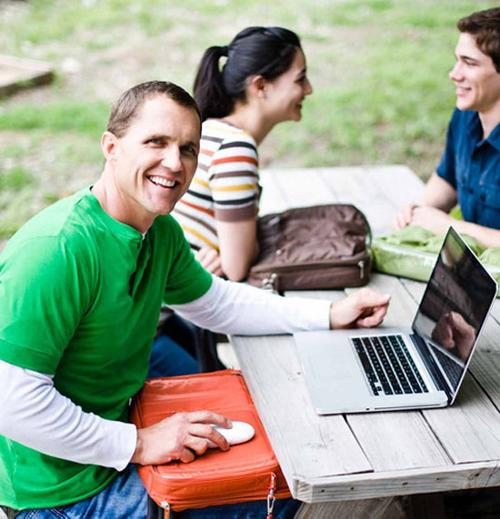person: (4, 83, 395, 519)
